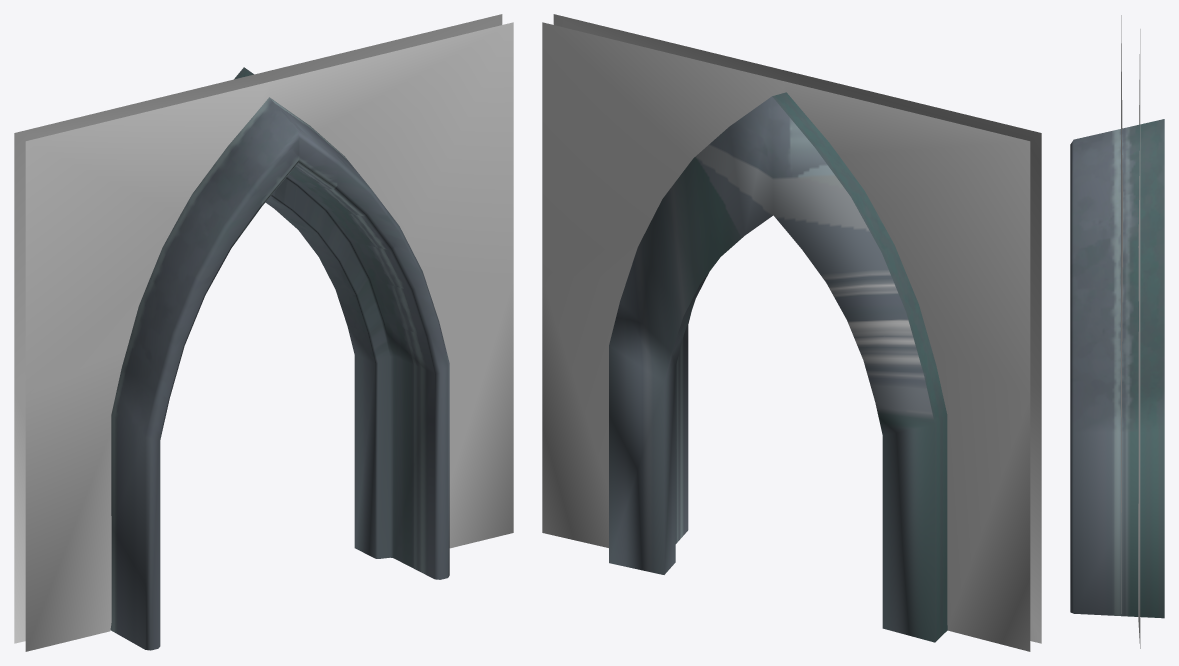
File: Wall_LargeWindowTop.fbx
The picture shows the model from 3 angles, left to right: view 1: azimuth 30°, elevation 25°; view 2: azimuth 150°, elevation 25°; view 3: azimuth 270°, elevation 25°; orthographic projection. The views are drawn at different scales.
Parts seen in each view (by area): view 1: Wall_LargeWindowTop; view 2: Wall_LargeWindowTop; view 3: Wall_LargeWindowTop.
Part boxes in pixels (x1,y1,x2,y2): Wall_LargeWindowTop: [14, 14, 513, 651]; Wall_LargeWindowTop: [542, 14, 1041, 651]; Wall_LargeWindowTop: [1070, 15, 1164, 648].
Size of the model in its own units: 500 by 500 by 98.3.
